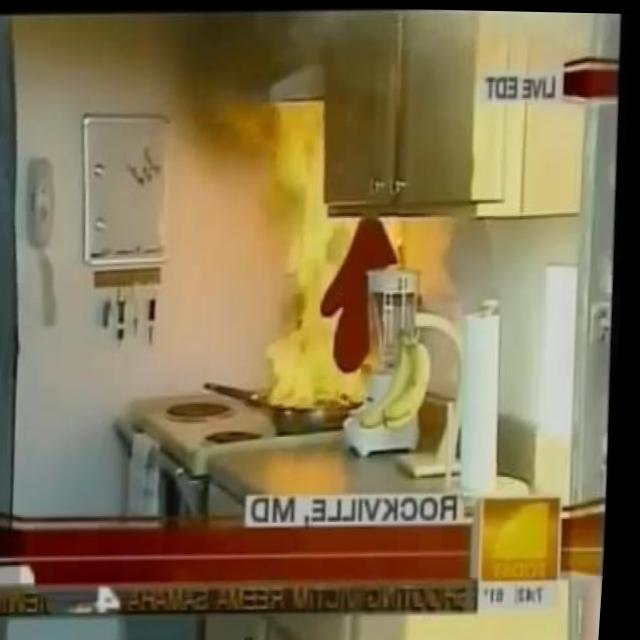fire: (263, 183, 372, 413)
